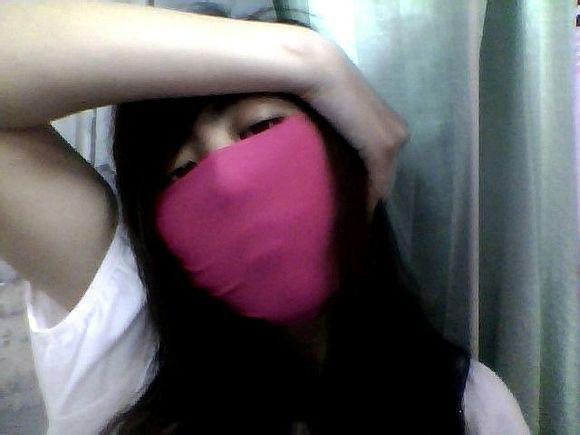OK: (124, 96, 348, 316)
